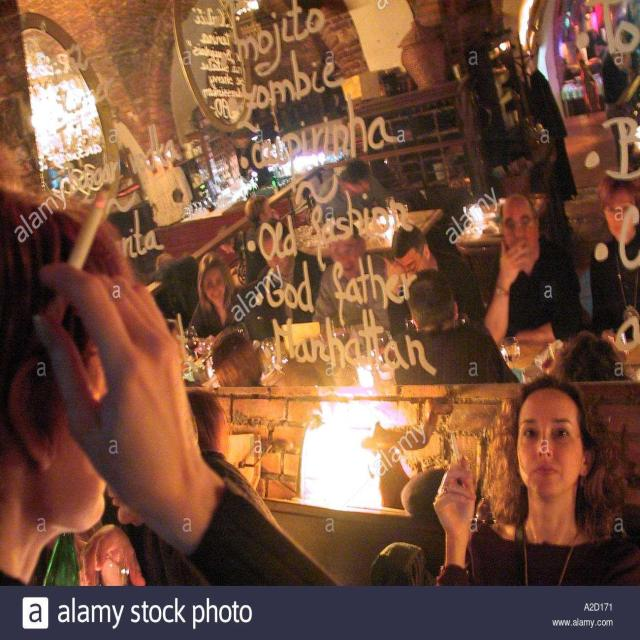Smooking: (56, 193, 126, 329)
